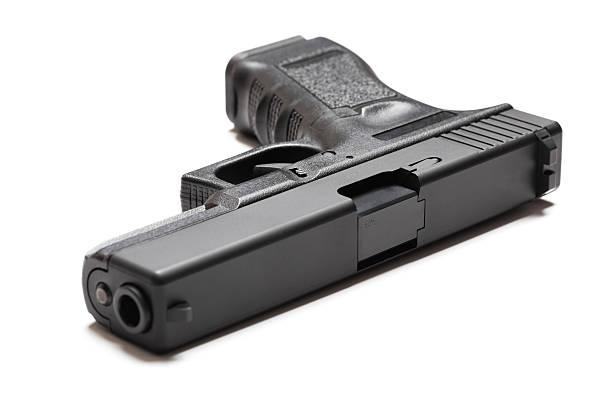weapon: (76, 27, 576, 364)
